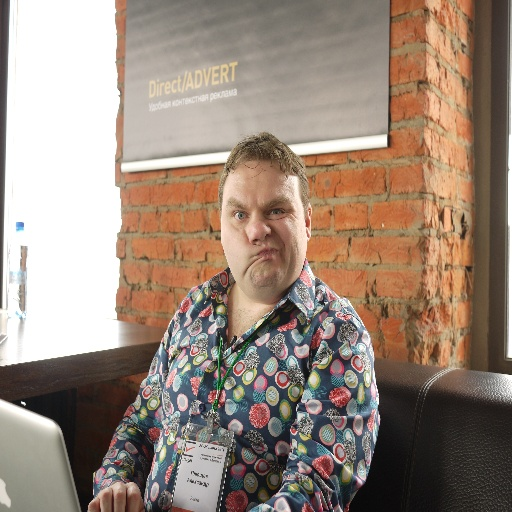hand: (87, 480, 141, 511)
